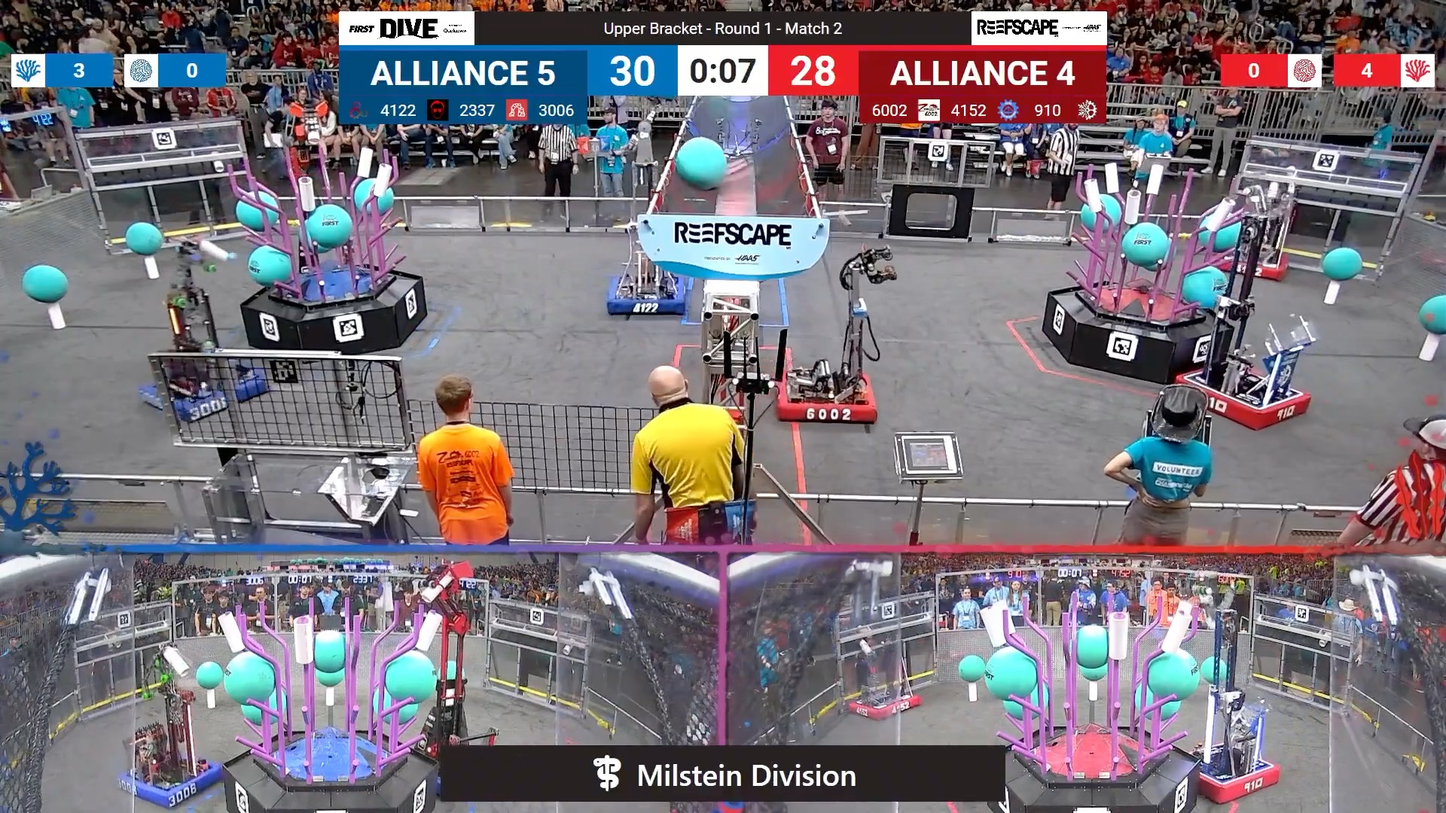bumpers: (1170, 373, 1319, 431), (130, 371, 271, 423), (770, 367, 887, 428), (113, 757, 227, 810), (1178, 752, 1286, 802), (601, 269, 698, 319), (844, 688, 925, 721), (1215, 251, 1292, 281)
